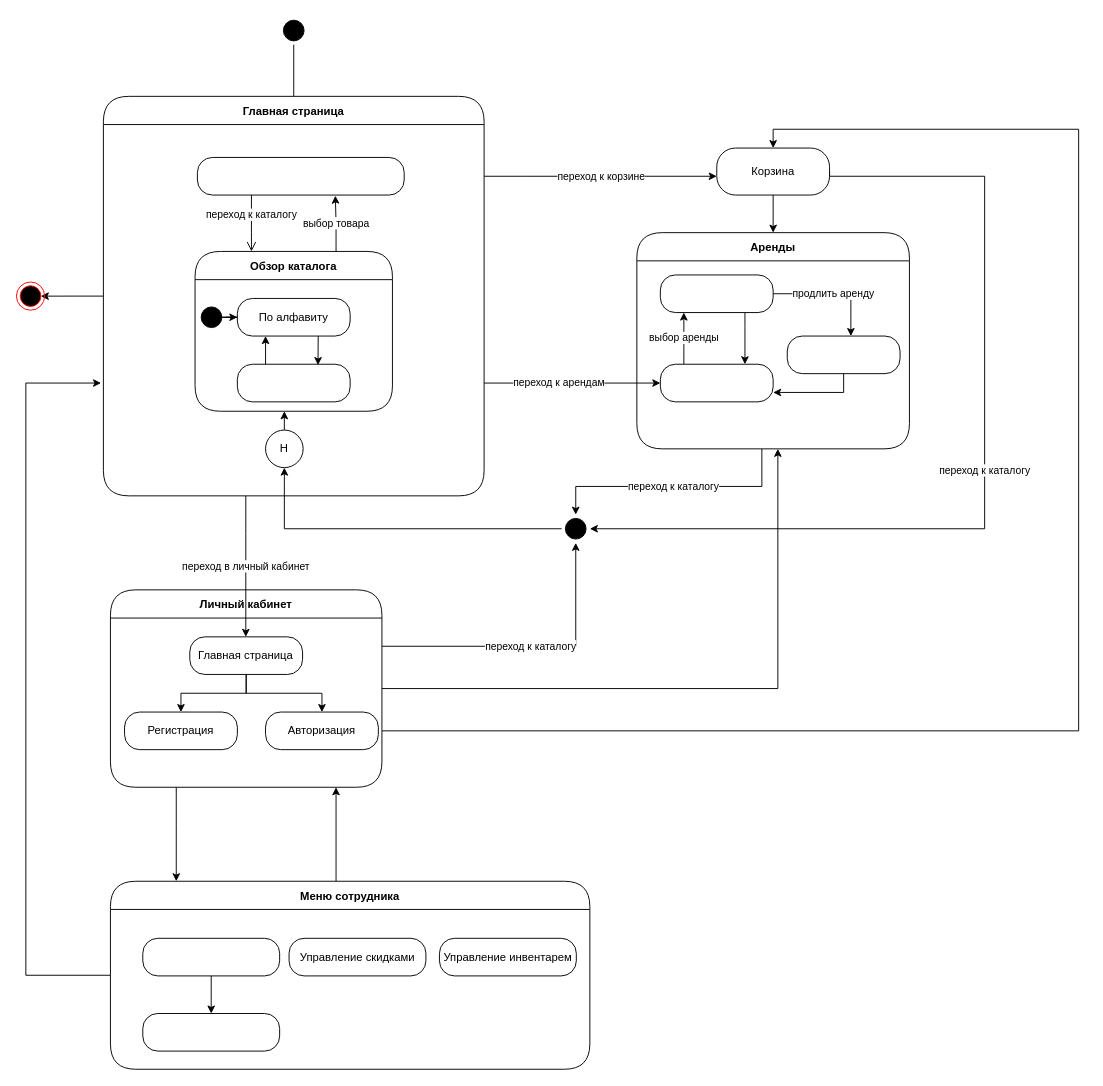
Some shapes in this 1103 by 1086 pixel diagram are drawn without their labels. The shapes that lost their labels are listed below. From the top down, each one's centre as x and y in pixels, then its label:
At [300,176]: "Описание товара".
At [716,293]: "Информация об аренде".
At [843,354]: "Продление аренды".
At [293,382]: "По категориям".
At [716,382]: "Просмотр текущих аренд".
At [211,956]: "Завершение аренды".
At [211,1032]: "Выдача QR кода для оплаты".
